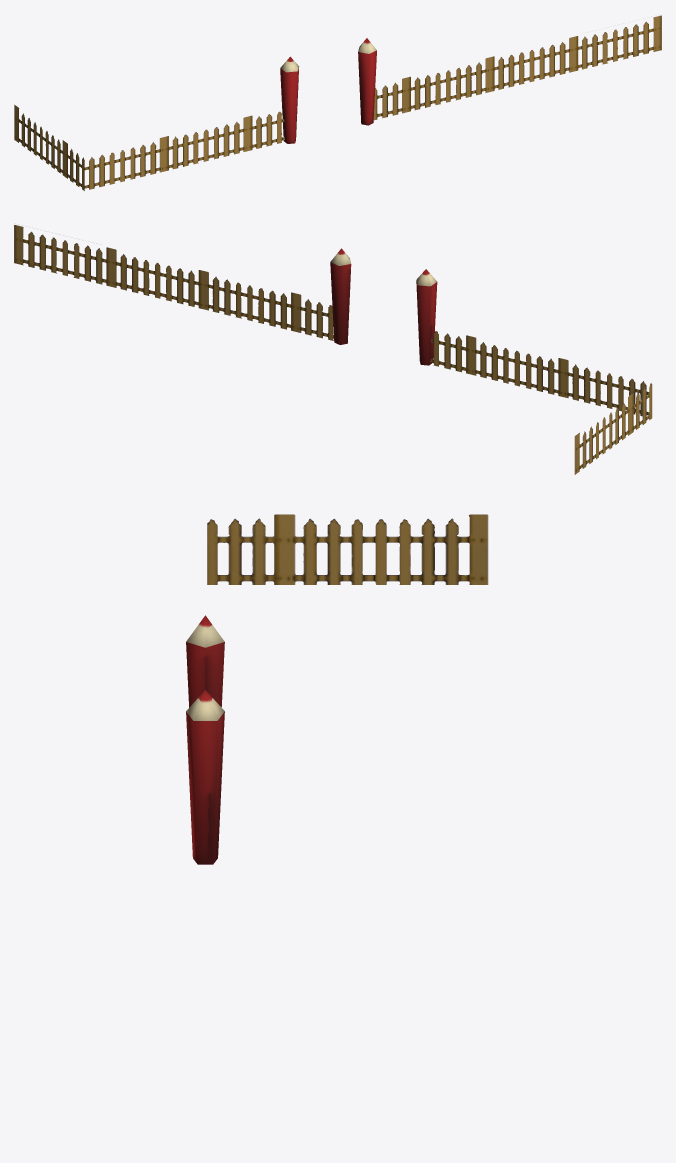
The model's file is barrier.DAE.
The picture shows the model from 3 angles, top to bottom: view 1: azimuth 30°, elevation 25°; view 2: azimuth 150°, elevation 25°; view 3: azimuth 270°, elevation 25°; orthographic projection. The views are drawn at different scales.
Visible parts, largest first — view 1: barrier1_PIVOT; view 2: barrier1_PIVOT; view 3: barrier1_PIVOT.
Part boxes in pixels (x1=…): barrier1_PIVOT: x1=14, y1=15, x2=661, y2=190; barrier1_PIVOT: x1=14, y1=225, x2=652, y2=474; barrier1_PIVOT: x1=186, y1=514, x2=488, y2=864.
Bounding box in the file's own units: 1331 × 299 × 184.
1 material, 1 textured.
